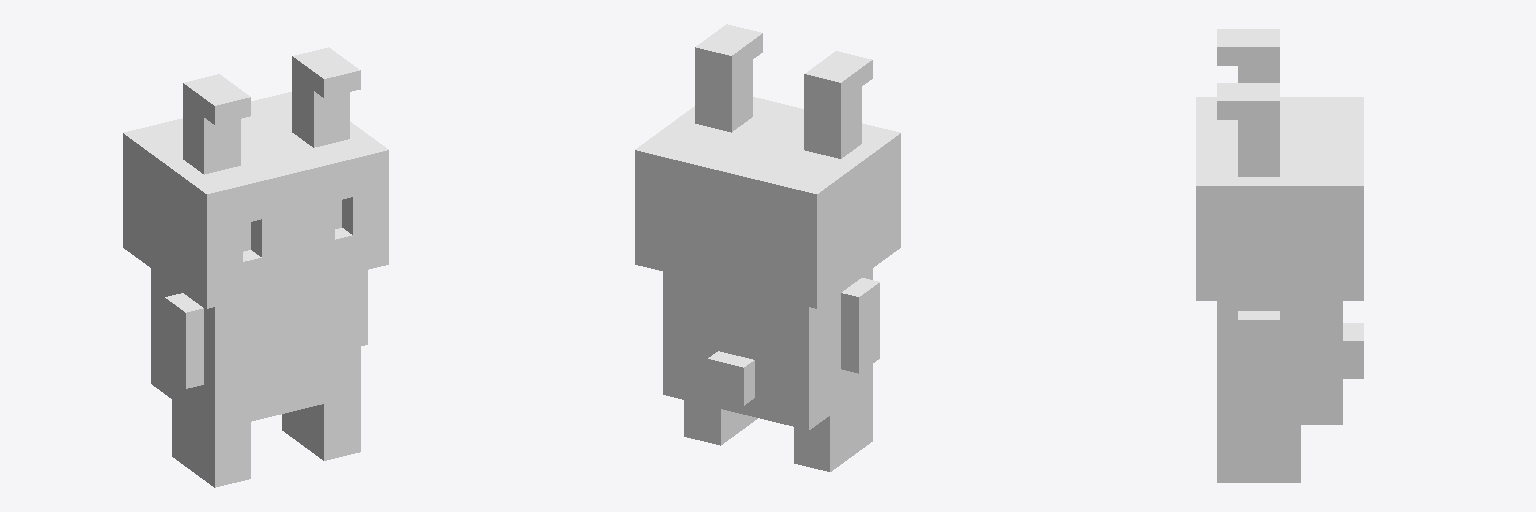
File: Bunny_voxel.obj
The picture shows the model from 3 angles: view 1: azimuth 30°, elevation 25°; view 2: azimuth 150°, elevation 25°; view 3: azimuth 270°, elevation 25°; orthographic projection.
Visible parts, largest first — view 1: Bunny_voxel; view 2: Bunny_voxel; view 3: Bunny_voxel.
Boxes of the visible parts, <box> form: Bunny_voxel: <box>123,47,388,487</box>; Bunny_voxel: <box>635,24,900,471</box>; Bunny_voxel: <box>1196,29,1363,482</box>.
Size of the model in its own units: 10 by 20 by 8.